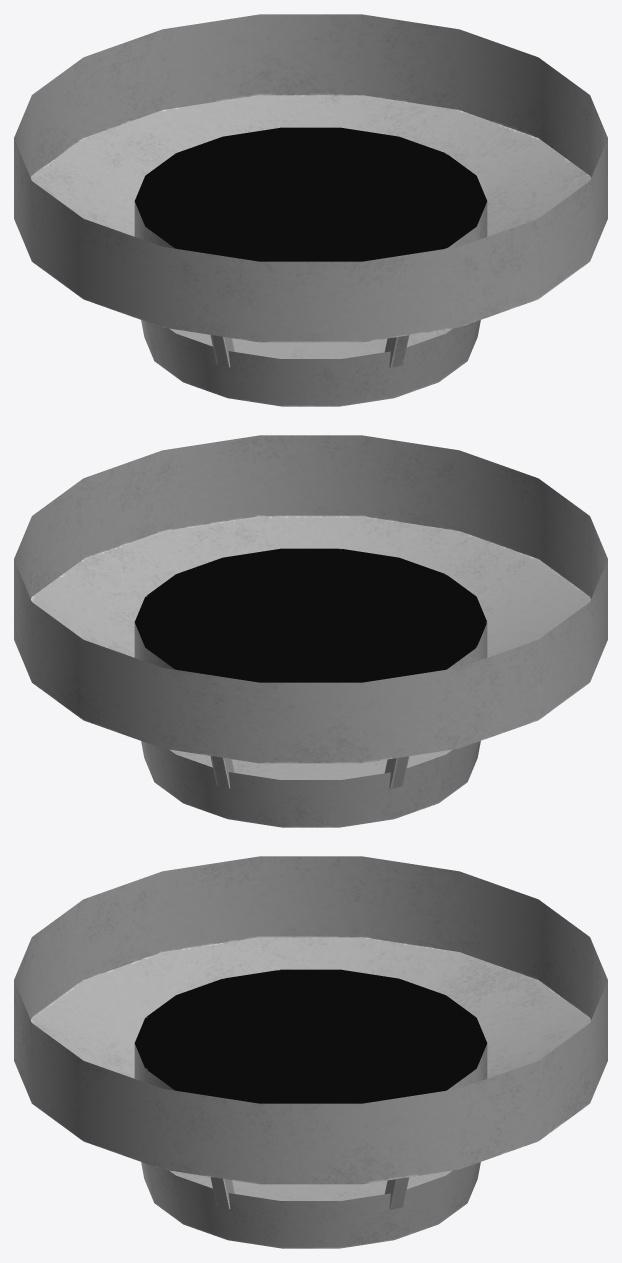
Rendered from SM_FireAlarmCeiling_01.fbx.
3 renders of one model, top to bottom at view 1: azimuth 30°, elevation 25°; view 2: azimuth 150°, elevation 25°; view 3: azimuth 270°, elevation 25°, orthographic.
Visible parts, largest first — view 1: SM_FireAlarmCeiling_01_LOD0; view 2: SM_FireAlarmCeiling_01_LOD0; view 3: SM_FireAlarmCeiling_01_LOD0.
Boxes of the visible parts, x1,y1,x2,y2 form: SM_FireAlarmCeiling_01_LOD0: [14, 14, 607, 406]; SM_FireAlarmCeiling_01_LOD0: [14, 435, 607, 827]; SM_FireAlarmCeiling_01_LOD0: [14, 856, 607, 1248].
Size of the model in its own units: 19.7 by 20 by 7.4.
